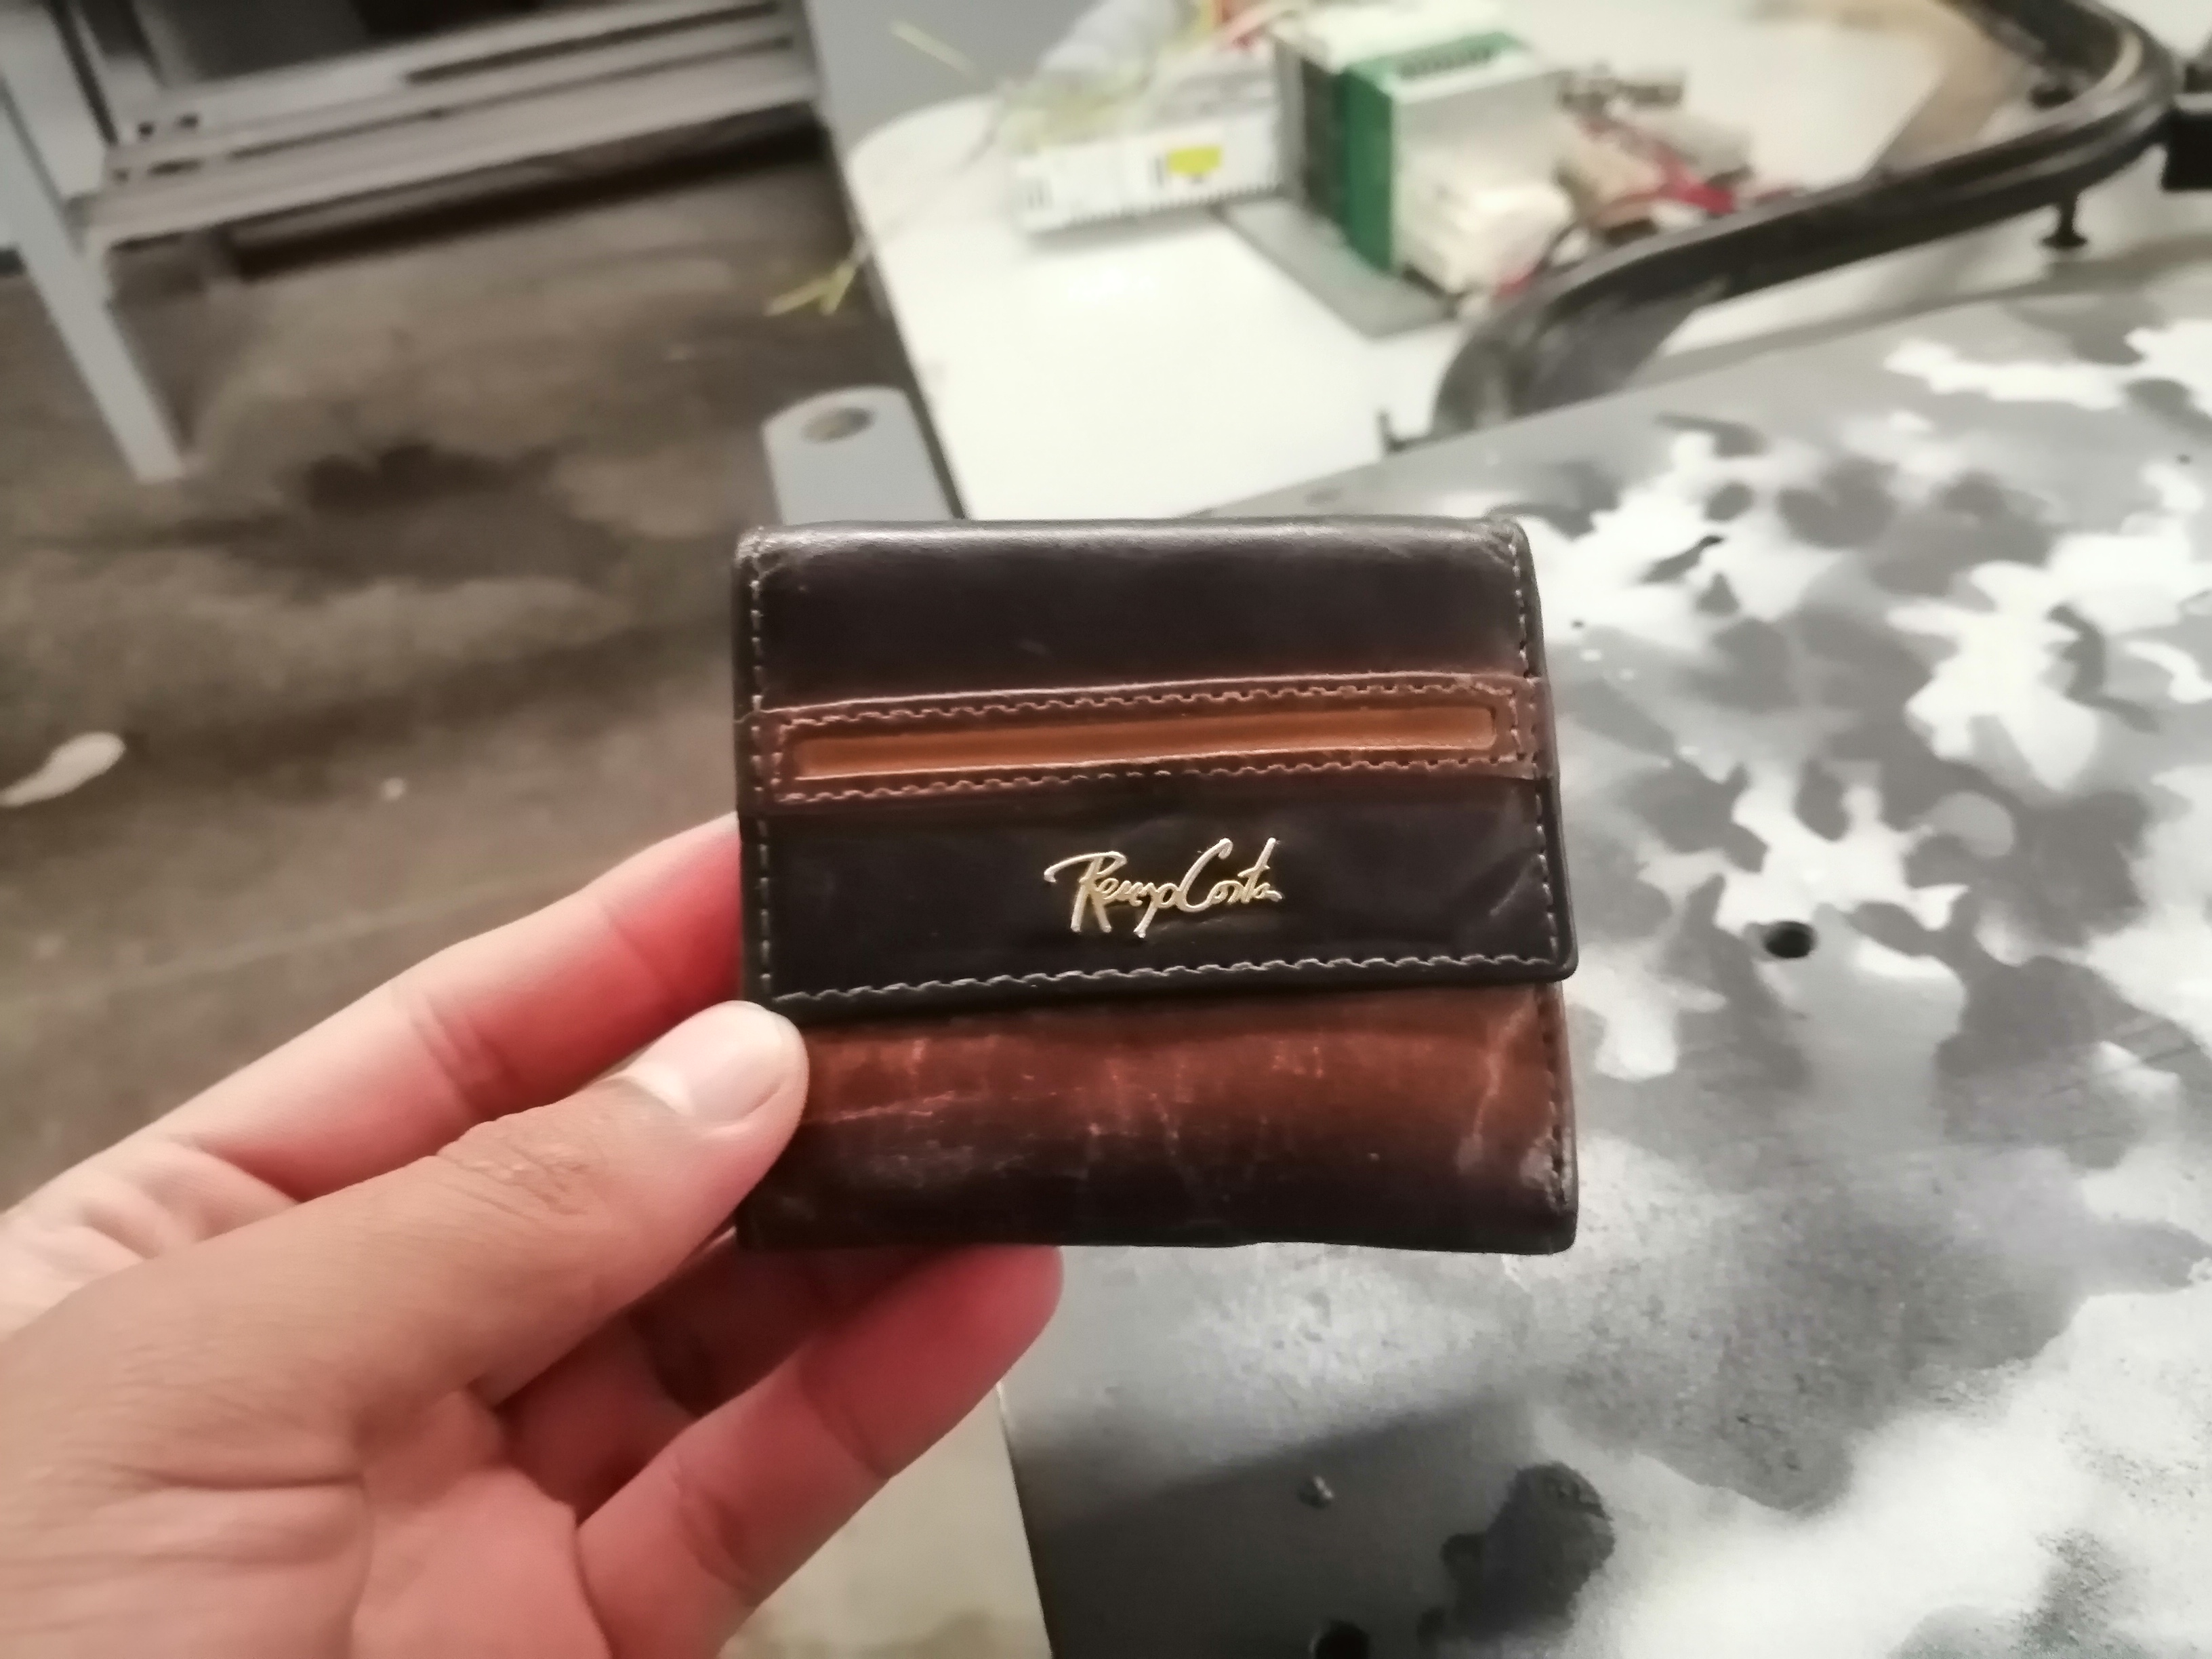monedero: (707, 488, 1606, 1274)
